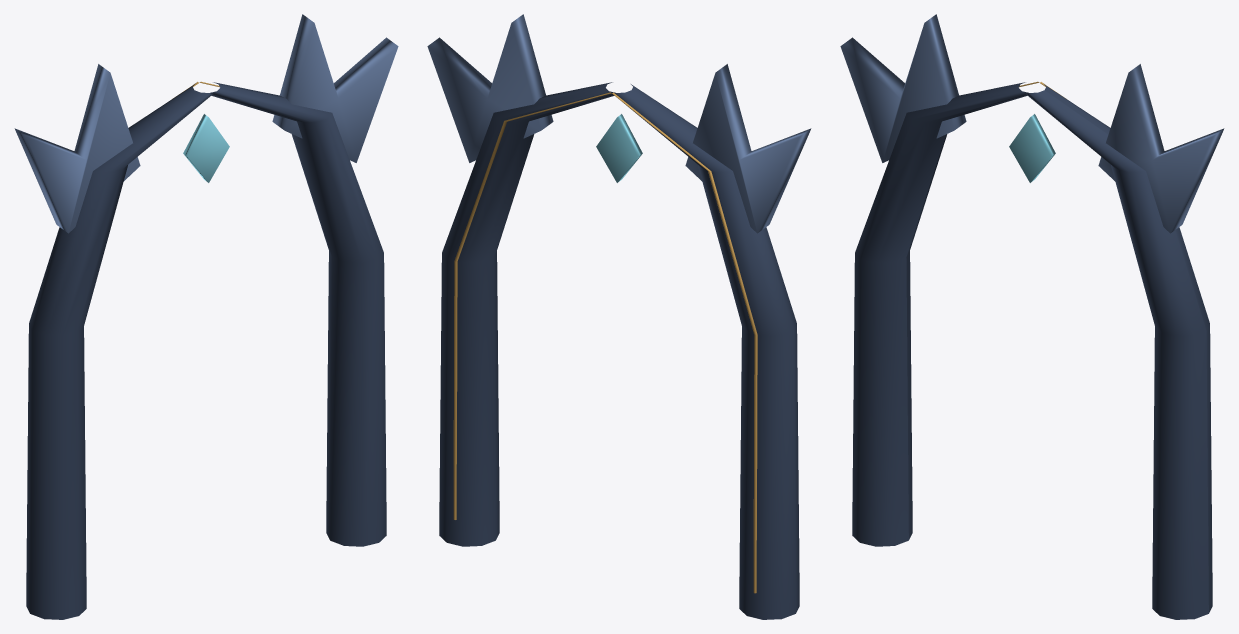
Rendered from prop_2_1.glb.
The picture shows the model from 3 angles, left to right: view 1: azimuth 30°, elevation 25°; view 2: azimuth 150°, elevation 25°; view 3: azimuth 330°, elevation 25°; orthographic projection.
Visible parts, largest first — view 1: ArchPier (×2), Crown (×2), ArchSeal; view 2: ArchPier (×2), Crown (×2), ArchInlay (×2), ArchSeal; view 3: ArchPier (×2), Crown (×2), ArchSeal.
Part boxes in pixels (box(x1,y1,x2,y2)): ArchPier (×2): box(26, 82, 386, 619); Crown (×2): box(14, 14, 398, 233); ArchSeal: box(183, 114, 229, 182); ArchPier (×2): box(439, 82, 799, 619); Crown (×2): box(427, 14, 811, 233); ArchInlay (×2): box(453, 92, 757, 593); ArchSeal: box(596, 114, 642, 182); ArchPier (×2): box(852, 82, 1212, 619); Crown (×2): box(840, 14, 1224, 233); ArchSeal: box(1009, 114, 1055, 182).
Bounding box in the file's own units: 6.2 × 8.4 × 0.8522.
